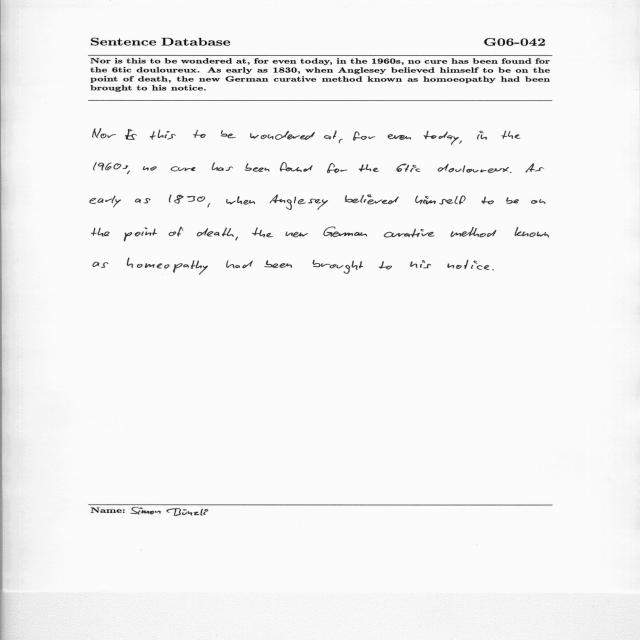word: (127, 258, 208, 275), (270, 195, 328, 210), (313, 260, 363, 274), (438, 164, 509, 173), (250, 131, 315, 140), (345, 195, 399, 205), (424, 131, 459, 145), (124, 228, 157, 242), (415, 196, 466, 205), (384, 229, 434, 238), (451, 227, 496, 237), (324, 227, 367, 237), (448, 260, 490, 270), (515, 227, 549, 238), (90, 196, 121, 208), (197, 227, 234, 237), (280, 162, 313, 172), (169, 195, 205, 204), (94, 162, 128, 171), (226, 196, 255, 205), (150, 130, 176, 140), (92, 129, 116, 139), (245, 163, 270, 172), (264, 260, 292, 268), (353, 131, 375, 141), (226, 261, 253, 269), (252, 228, 273, 238), (327, 163, 347, 173), (397, 164, 421, 172), (91, 228, 110, 237), (212, 163, 233, 171), (410, 260, 431, 268), (526, 164, 544, 173), (359, 164, 379, 172), (502, 131, 521, 139), (388, 134, 412, 140), (125, 129, 137, 140), (286, 232, 308, 238), (169, 227, 183, 236), (171, 167, 196, 172), (221, 131, 236, 139), (324, 131, 337, 140), (379, 261, 392, 270), (193, 130, 206, 138), (481, 197, 494, 205), (506, 197, 519, 204), (477, 131, 487, 140), (93, 262, 108, 268), (135, 198, 150, 203), (531, 199, 546, 204), (143, 166, 157, 171), (339, 139, 343, 143), (459, 140, 462, 144), (127, 171, 130, 175), (208, 204, 211, 208), (235, 237, 238, 241), (510, 172, 512, 173), (492, 270, 494, 271)
